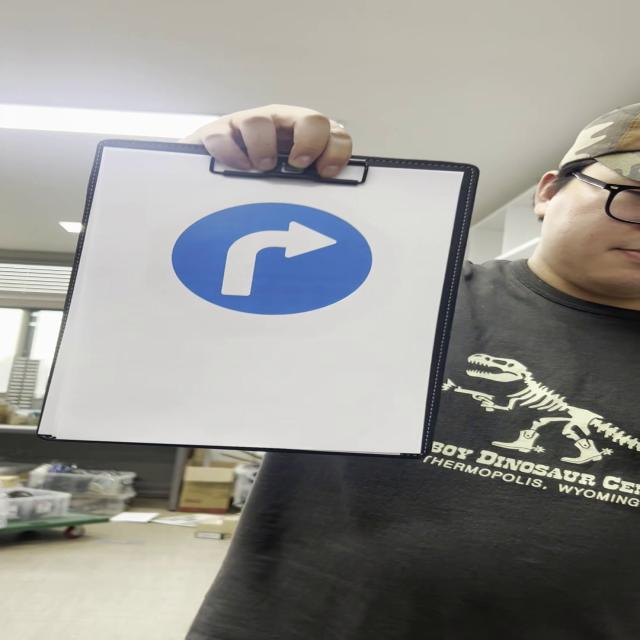right: (172, 202, 380, 317)
